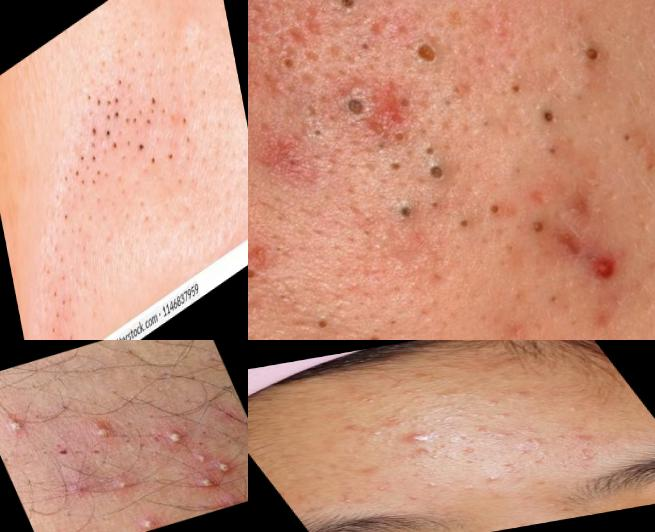blackhead: (377, 149, 472, 241), (33, 229, 90, 341), (447, 187, 538, 243), (561, 36, 617, 95), (321, 88, 383, 141), (68, 128, 106, 199), (48, 180, 86, 248), (97, 68, 136, 128), (528, 91, 570, 146), (134, 79, 171, 139), (602, 115, 651, 158), (172, 100, 204, 159), (146, 134, 181, 187), (110, 101, 143, 157), (411, 41, 452, 85), (78, 72, 109, 125), (249, 242, 279, 293), (317, 303, 349, 341), (316, 1, 378, 18), (352, 391, 403, 411), (97, 123, 120, 164), (407, 1, 475, 13), (640, 282, 655, 329), (362, 322, 396, 341), (134, 135, 148, 161)
folliculitis: (85, 415, 123, 452), (159, 424, 197, 455), (1, 412, 35, 443), (112, 473, 144, 502), (133, 512, 169, 532), (216, 458, 237, 477), (198, 473, 220, 491)
papular: (575, 237, 639, 301), (400, 429, 445, 452), (217, 485, 249, 509)
whitehead: (399, 384, 444, 404), (420, 473, 458, 492), (507, 446, 538, 465), (567, 452, 604, 467), (452, 446, 483, 459), (335, 493, 360, 509), (483, 473, 507, 487)
